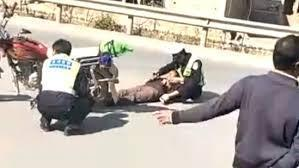Fall-Detected: (93, 44, 207, 107)
